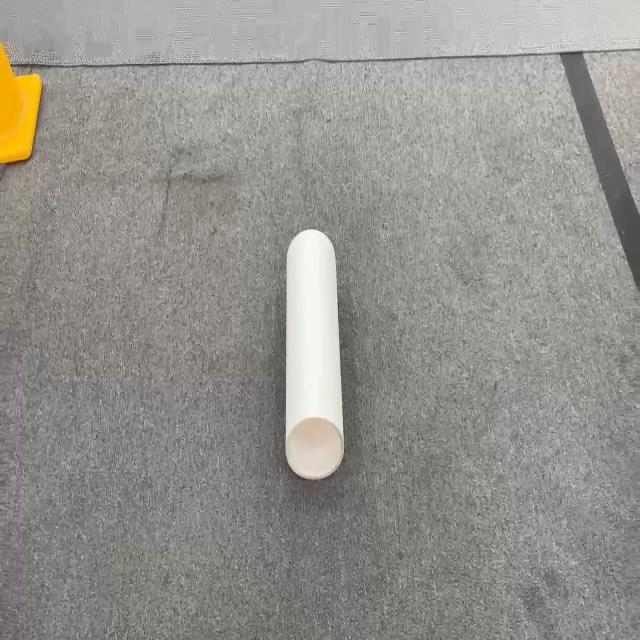coral: (284, 227, 345, 480)
